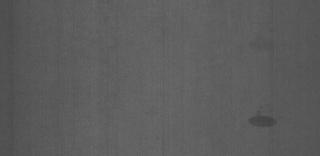oil spot: (243, 108, 285, 132)
